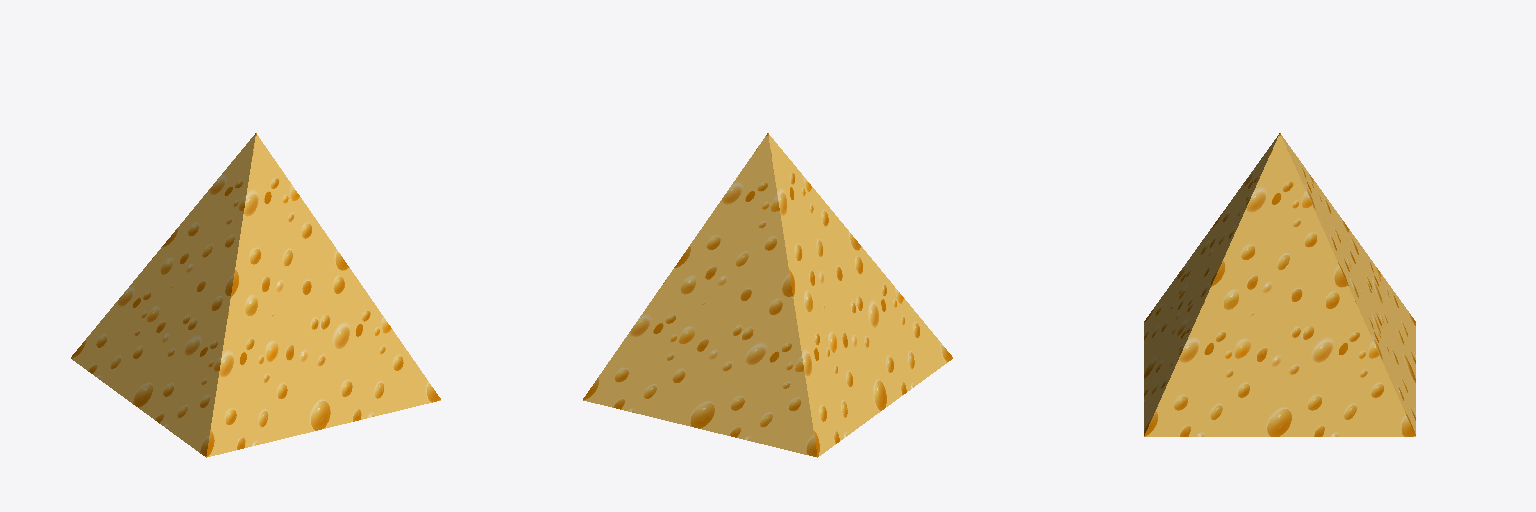
3 views of the same model, side by side, from view 1: azimuth 30°, elevation 25°; view 2: azimuth 150°, elevation 25°; view 3: azimuth 270°, elevation 25° (orthographic).
Visible parts, largest first — view 1: Cube_Cube.001; view 2: Cube_Cube.001; view 3: Cube_Cube.001.
Part boxes in pixels (left/top/right/bottom): Cube_Cube.001: left=71, top=133, right=440, bottom=457; Cube_Cube.001: left=583, top=133, right=952, bottom=457; Cube_Cube.001: left=1144, top=133, right=1415, bottom=436.
Bounding box in the file's own units: 2 × 2 × 2.
1 materials, 1 textured.